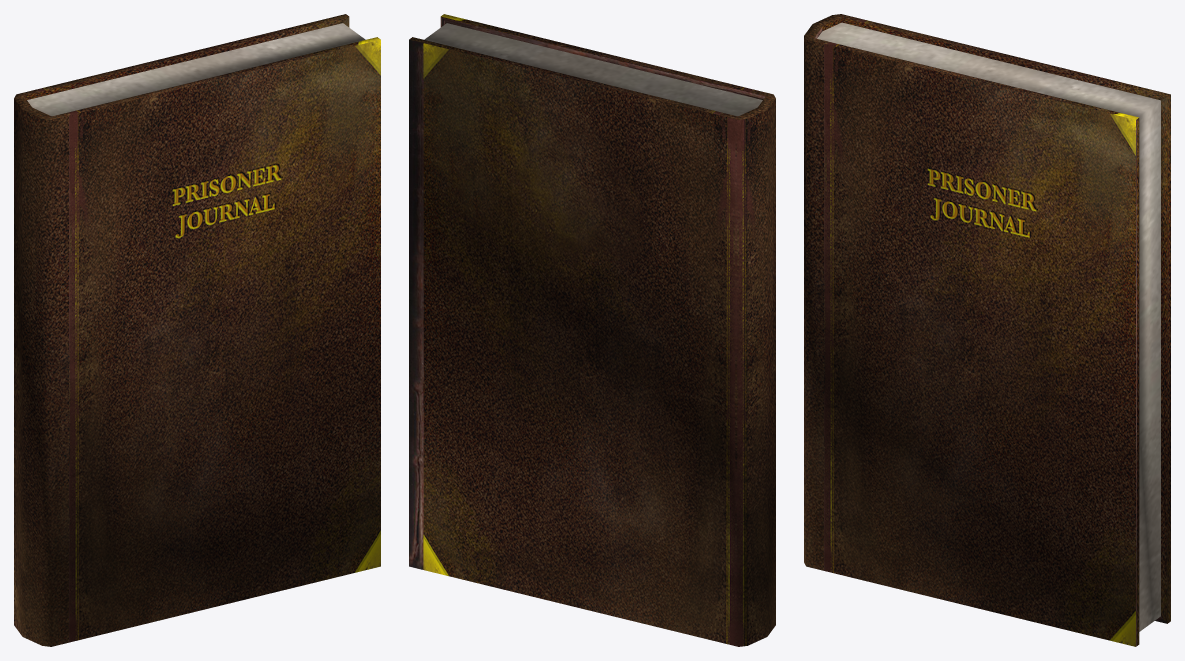
File: PrisonerJournal.fbx
3 renders of one model, left to right at view 1: azimuth 30°, elevation 25°; view 2: azimuth 150°, elevation 25°; view 3: azimuth 330°, elevation 25°, orthographic.
Visible parts, largest first — view 1: Book_1.001; view 2: Book_1.001; view 3: Book_1.001.
Boxes of the visible parts, x1,y1,x2,y2 form: Book_1.001: (14,14,380,646); Book_1.001: (409,14,775,646); Book_1.001: (804,14,1170,646).
Bounding box in the file's own units: 0.4259 × 0.6293 × 0.0757.
